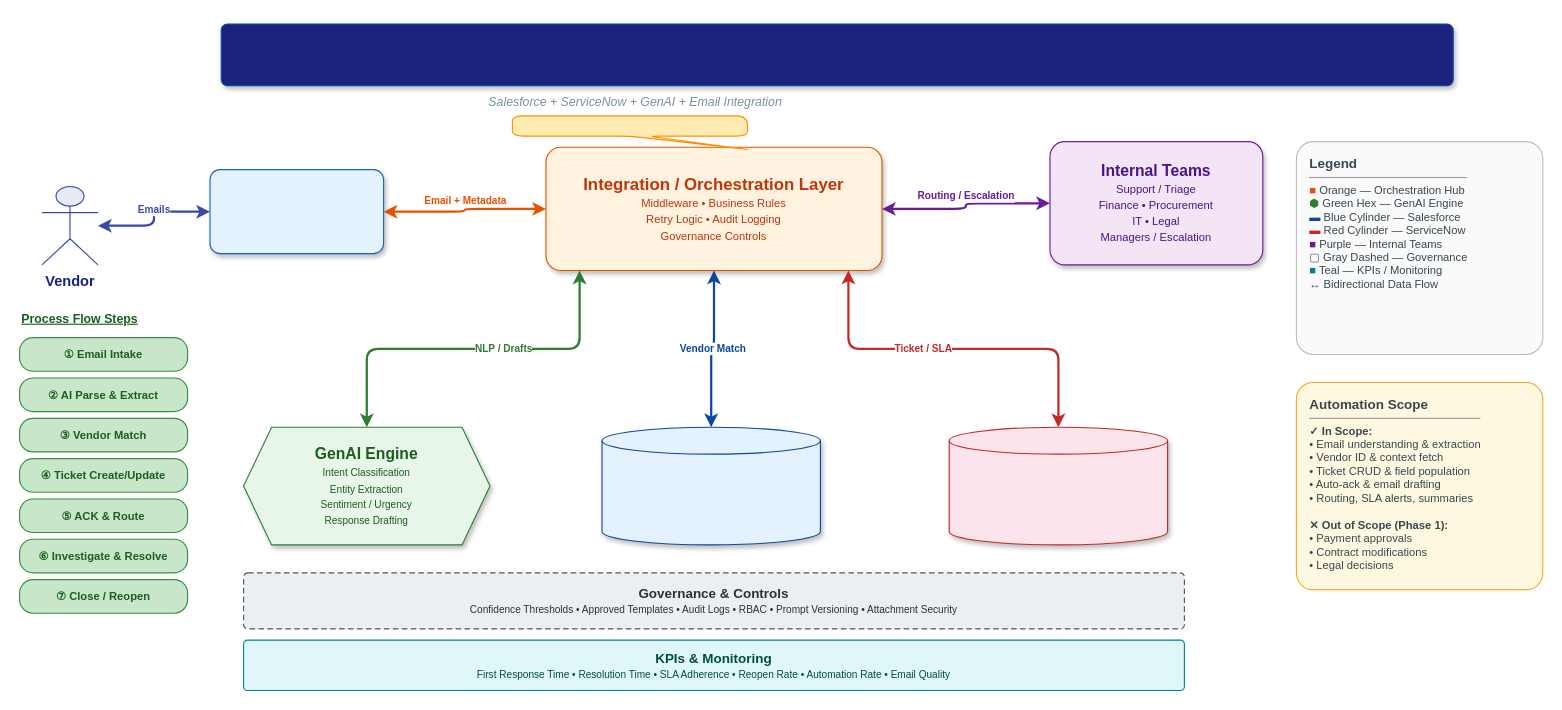
Some shapes in this 1562 by 710 pixel diagram are drawn without their labels. Each missing label, with the centre of its shape:
Email Channel Inbound / Outbound: point (297, 213)
Low confidence → Human Triage Queue: point (629, 132)
Salesforce Vendor Master Data Contacts • Contracts SLA / Status / Tier: point (711, 487)
ServiceNow Ticket Lifecycle SLA Tracking • Routing Audit Logs • Reporting: point (1059, 487)
Vendor Query Management — High-Level Architecture: point (838, 56)
